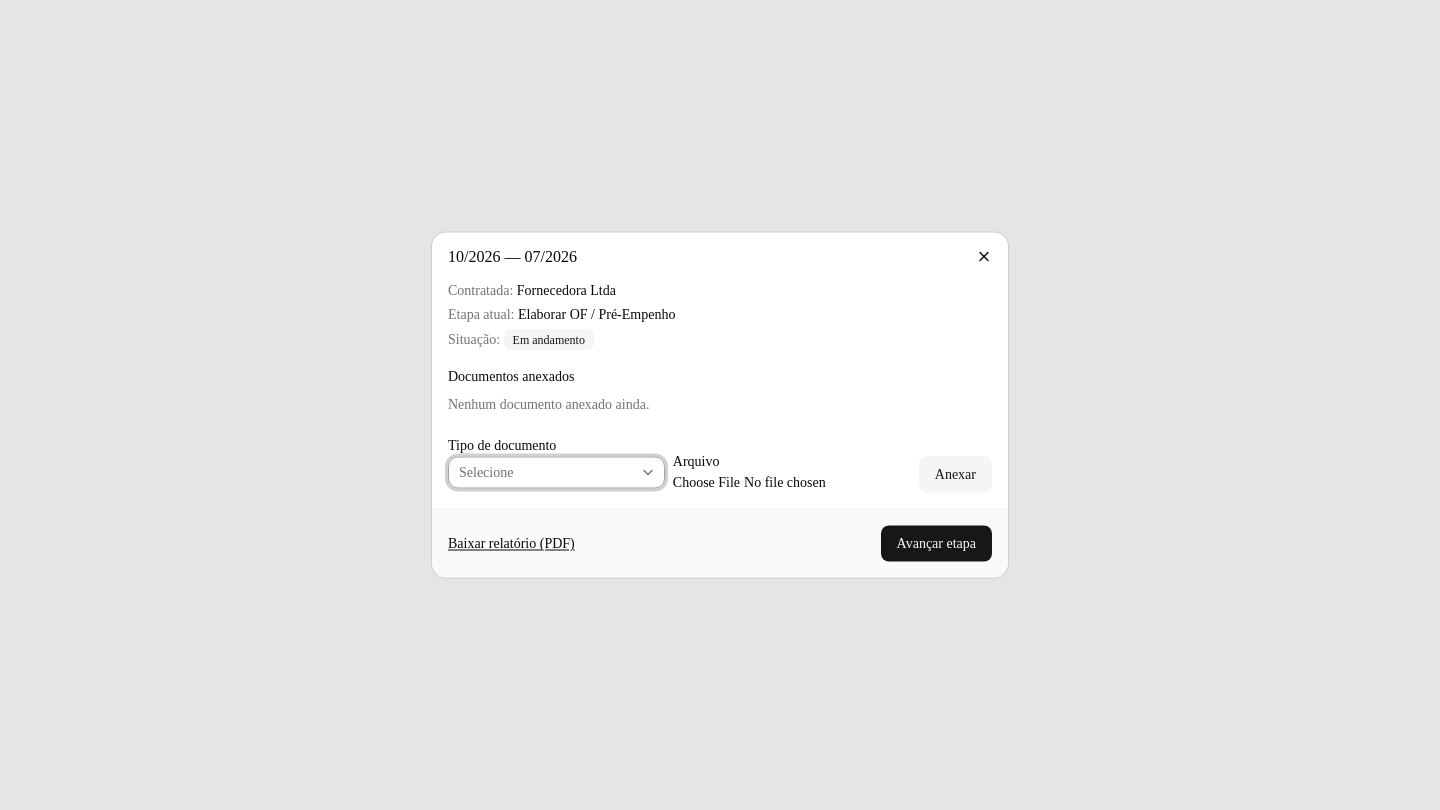
Test: ProcessoDialog › ao avançar com checklist incompleto (422), mostra os documentos pendentes sem fechar o dialog
This screenshot has width=1440, height=810.
Click the button "Avançar etapa" at (936, 544), box [881,526,992,562]
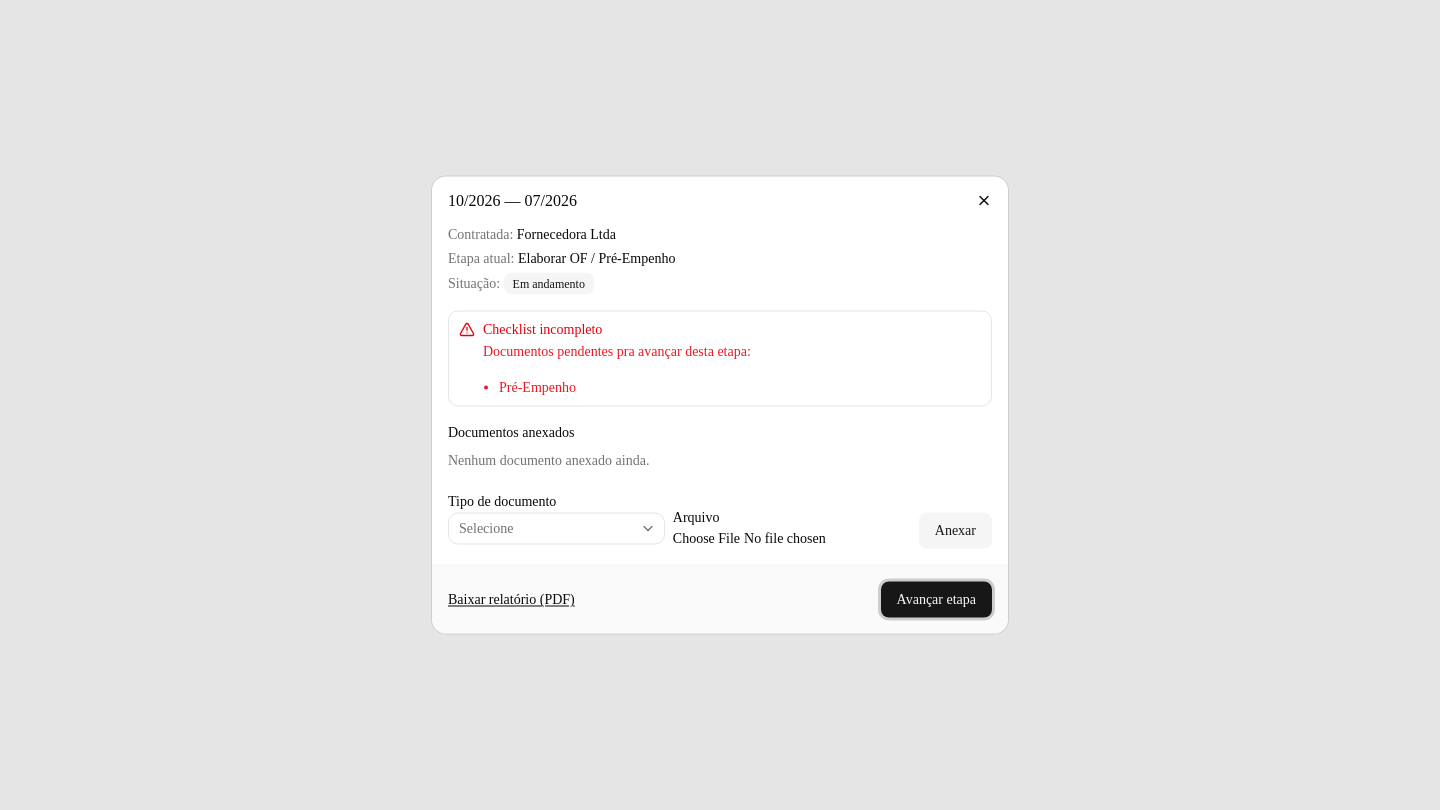
Expected: the text "Checklist incompleto" is shown, [483,322,602,336]
Expected: the list item "Pré-Empenho" is shown, [499,380,576,394]
